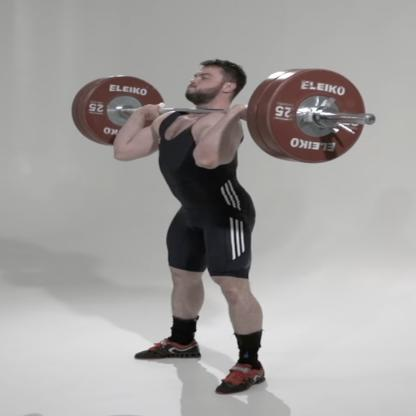barbell: (266, 68, 367, 165), (83, 76, 169, 148)
